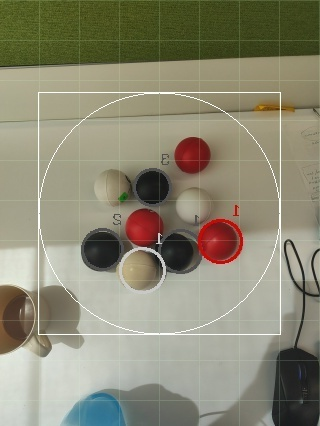Pelota blanca: (117, 382, 201, 425), (0, 284, 36, 355), (58, 390, 127, 425), (117, 246, 167, 291), (93, 166, 135, 206), (175, 185, 214, 227), (23, 334, 55, 357)
Pelota negra: (58, 390, 127, 425), (79, 225, 124, 272), (162, 228, 204, 275), (135, 166, 172, 206)
Pelota roja: (197, 217, 246, 264), (125, 206, 167, 246), (173, 134, 212, 174)
